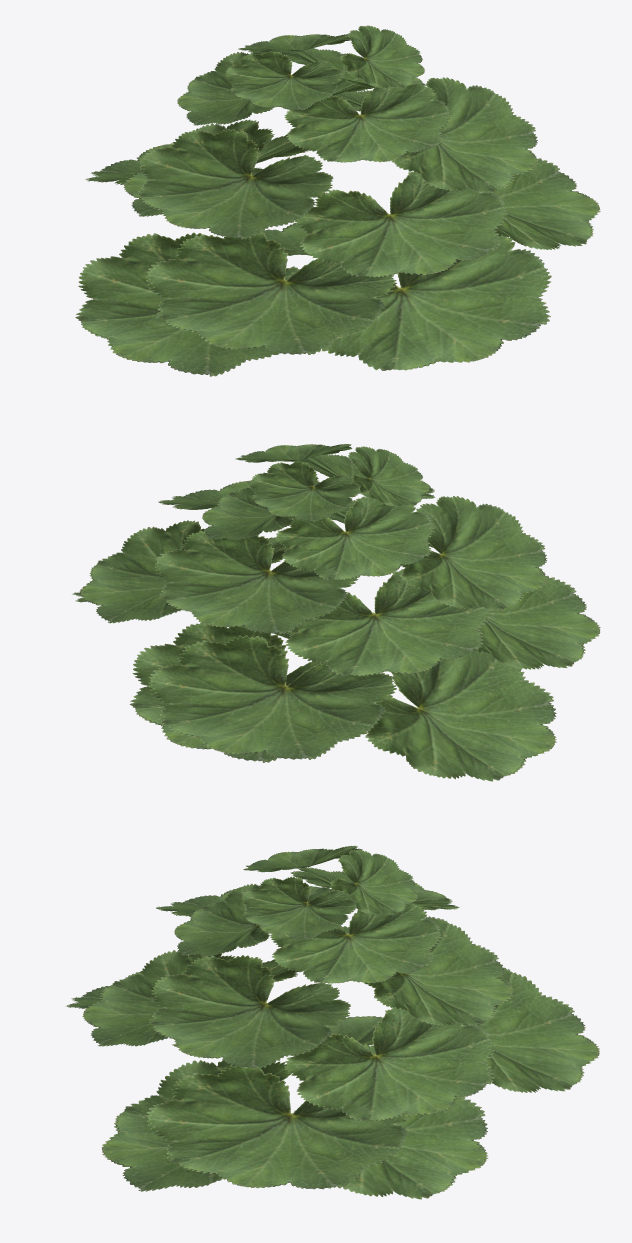
The model's file is detail plant9.FBX.
3 views of the same model, one above another, from view 1: azimuth 30°, elevation 25°; view 2: azimuth 150°, elevation 25°; view 3: azimuth 270°, elevation 25° (orthographic). The views are drawn at different scales.
Parts seen in each view (by area): view 1: detail plant9; view 2: detail plant9; view 3: detail plant9.
Boxes of the visible parts, x1,y1,x2,y2 form: detail plant9: [75, 25, 600, 376]; detail plant9: [72, 444, 600, 781]; detail plant9: [65, 845, 599, 1199].
Size of the model in its own units: 2.37 by 1.15 by 2.22.
